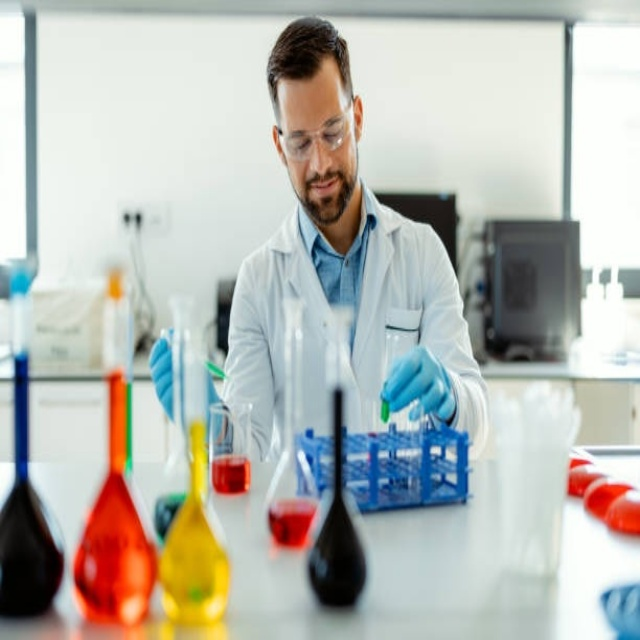Gafas: (277, 96, 356, 160)
Guantes: (148, 333, 221, 429), (381, 345, 454, 423)
Sin_mascara: (303, 168, 344, 215)
